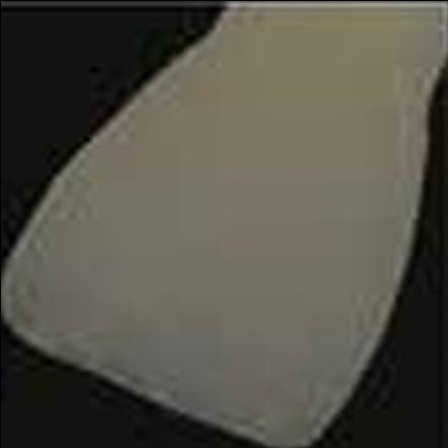coin_1: (426, 122, 446, 142)
coin_2: (404, 266, 424, 286)
coin_3: (205, 39, 225, 59)
coin_4: (87, 139, 107, 159)
